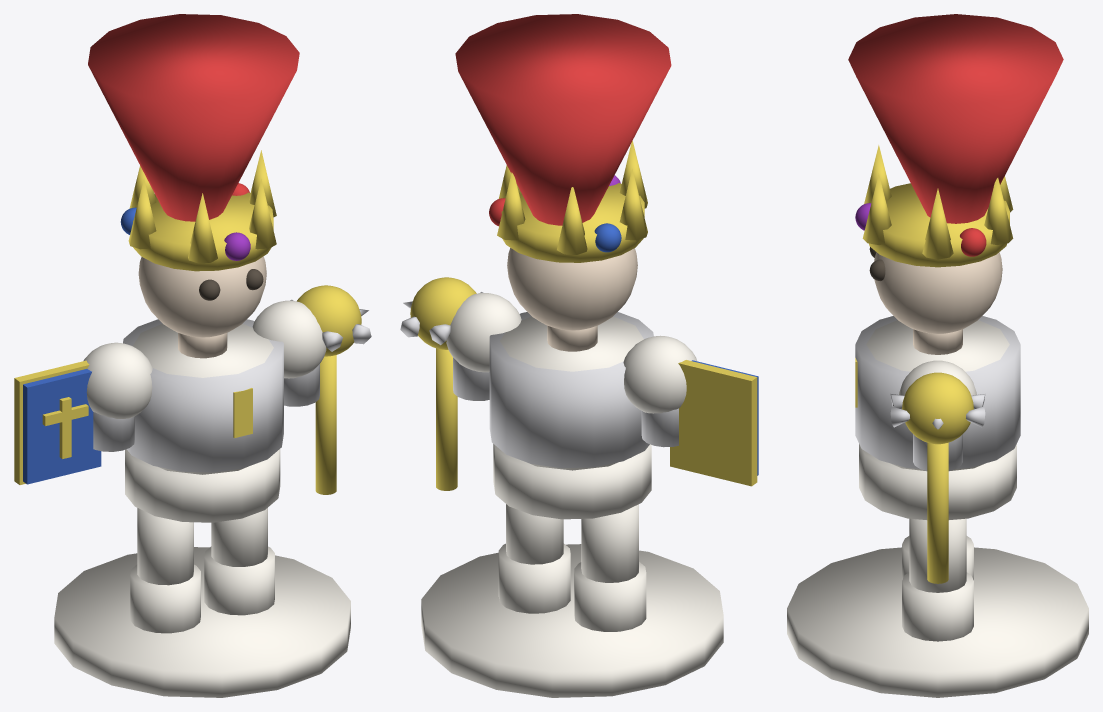
File: Vua.glb
3 renders of one model, left to right at view 1: azimuth 30°, elevation 25°; view 2: azimuth 150°, elevation 25°; view 3: azimuth 270°, elevation 25°, orthographic.
Parts seen in each view (by area): view 1: King; view 2: King; view 3: King.
Boxes of the visible parts, x1,y1,x2,y2 form: King: (14,14,371,697); King: (400,14,758,697); King: (787,14,1088,697).
Bounding box in the file's own units: 1.13 × 1.76 × 0.84.
